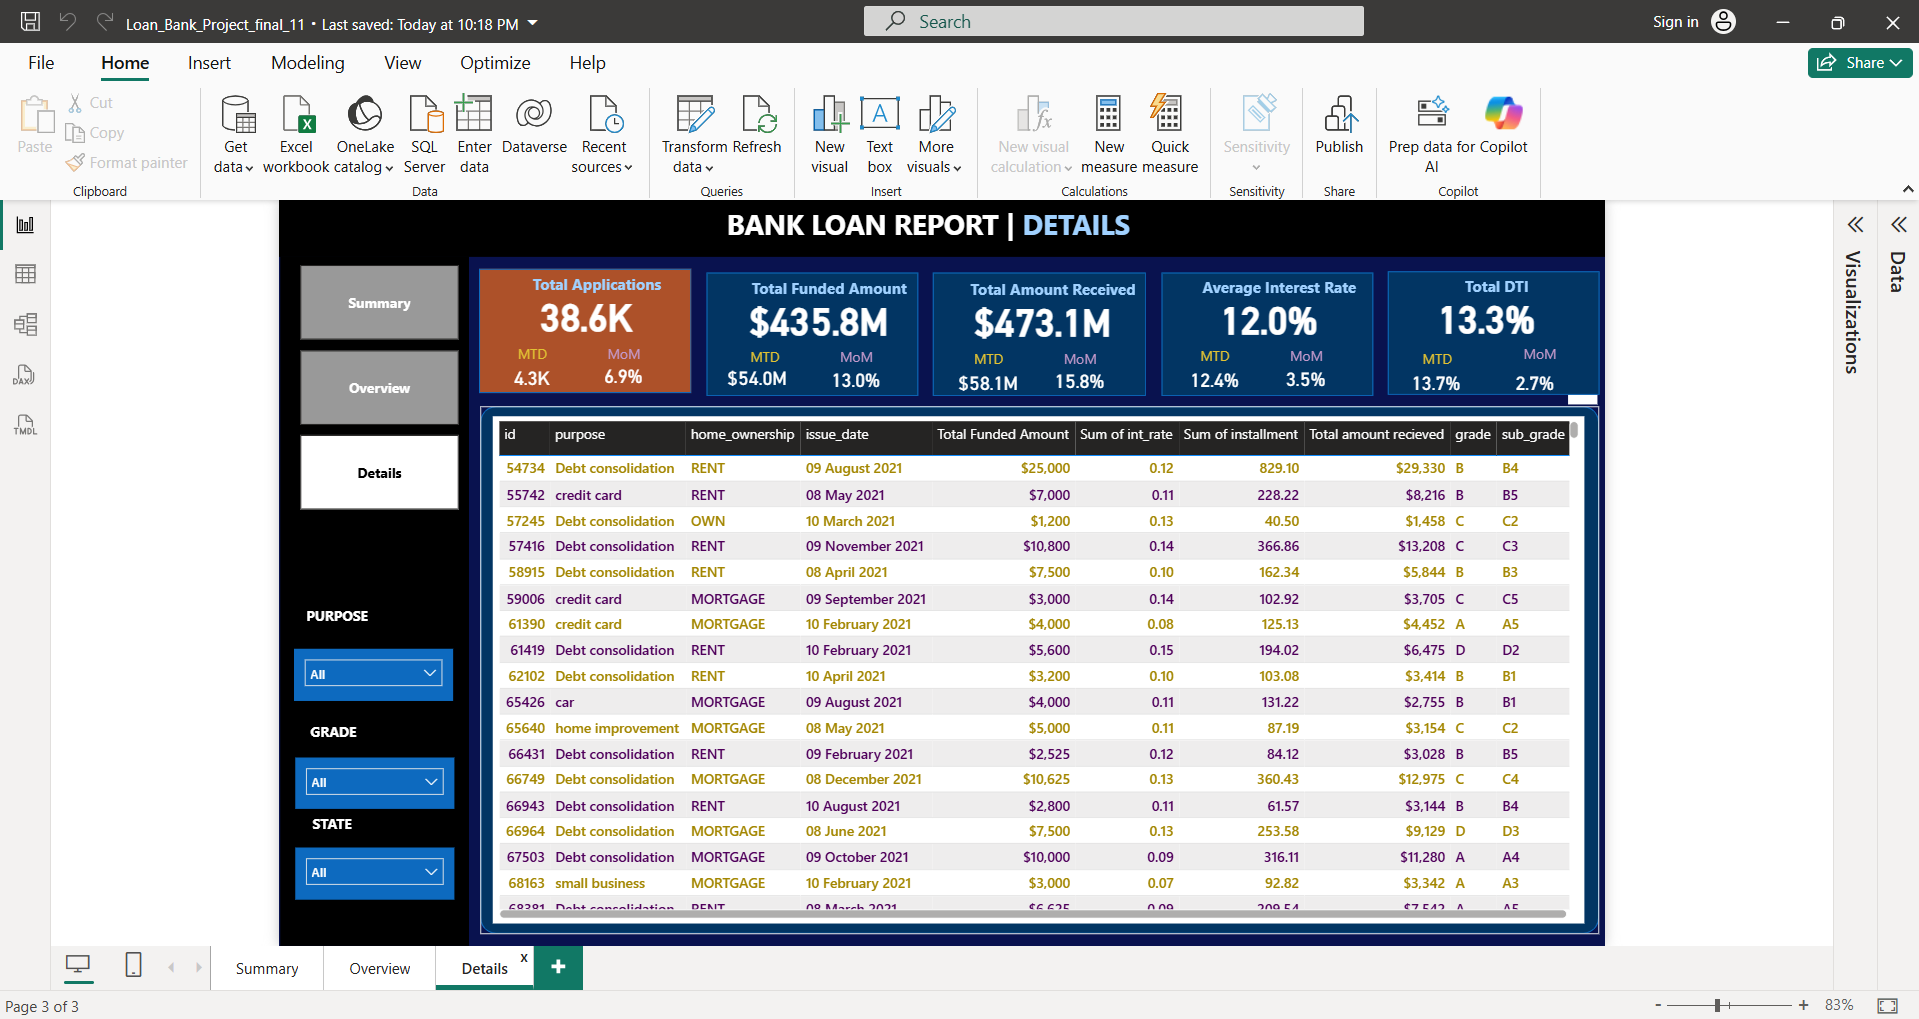

Layout of this report page (visuals, bound fields, positions):
{"tool":"powerbi","page":{"name":"Details","canvas":[1280,720],"ordinal":2},"visuals":[{"type":"shape","box":[1.2,54.3,182.2,666],"z":0},{"type":"shape","box":[194.2,199.1,1079.8,509.1],"z":1000},{"type":"shape","box":[0,0,1280.3,54.9],"z":2000},{"type":"shape","box":[631.5,70,205.8,119.4],"z":3000},{"type":"shape","box":[193.5,65.9,205,120],"z":4000},{"type":"textbox","box":[216.6,65.9,179.3,37.9],"z":4000,"group":"g1"},{"type":"textbox","box":[1085.2,67.2,179.3,37.9],"z":4000,"group":"g2"},{"type":"textbox","box":[875.3,68.6,179.3,37.9],"z":4000,"group":"g3"},{"type":"textbox","box":[441.7,70,179.3,37.9],"z":4000,"group":"g4"},{"type":"textbox","box":[657.1,71.4,179.3,37.9],"z":4000,"group":"g5"},{"type":"group","id":"g1","title":"Group 2","box":[196.2,65.9,200,130],"z":4001,"group":"g7"},{"type":"group","id":"g2","title":"Group 2","box":[1064.8,67.2,200,77.6],"z":4001,"group":"g10"},{"type":"group","id":"g3","title":"Group 2","box":[854.9,68.6,200,130],"z":4001,"group":"g9"},{"type":"group","id":"g4","title":"Group 2","box":[413.8,70,207.5,128.7],"z":4001,"group":"g8"},{"type":"group","id":"g5","title":"Group 2","box":[636.7,71.4,200,130],"z":4001,"group":"g6"},{"type":"textbox","box":[426.8,0,455.6,54.9],"z":5000},{"type":"card","fields":{"Values":["public bank.MTD Total"]},"box":[196.2,147.9,95.1,48],"z":5000,"group":"g1"},{"type":"card","fields":{"Values":["public bank.MTD Total Funded Amount"]},"box":[413.8,149.8,95.5,47],"z":5000,"group":"g4"},{"type":"card","fields":{"Values":["public bank.MTD Interest Rate"]},"box":[854.9,150.6,95.1,48],"z":5000,"group":"g3"},{"type":"card","fields":{"Values":["public bank.MTD Total amount receieved"]},"box":[636.7,153.4,95.1,48],"z":5000,"group":"g5"},{"type":"shape","box":[412.8,70,204.5,119.4],"z":6000},{"type":"card","fields":{"Values":["public bank.Total Loan Applications"]},"box":[196.2,78.5,200,65],"z":6000,"group":"g1"},{"type":"card","fields":{"Values":["public bank.Average DTI"]},"box":[1064.8,79.8,200,65],"z":6000,"group":"g2"},{"type":"card","fields":{"Values":["public bank.Avg Interest rate"]},"box":[854.9,81.2,200,65],"z":6000,"group":"g3"},{"type":"card","fields":{"Values":["public bank.Total Funded Amount"]},"box":[421.3,82.6,200,65],"z":6000,"group":"g4"},{"type":"card","fields":{"Values":["public bank.Total amount recieved"]},"box":[636.7,84,200,65],"z":6000,"group":"g5"},{"type":"shape","box":[1070.3,68.6,204.5,119.4],"z":7000},{"type":"textbox","box":[215.2,134.1,57,37.9],"z":7000,"group":"g1"},{"type":"textbox","box":[873.9,136.8,57,37.9],"z":7000,"group":"g3"},{"type":"textbox","box":[440.3,138.2,57,37.9],"z":7000,"group":"g4"},{"type":"textbox","box":[655.7,139.6,57,37.9],"z":7000,"group":"g5"},{"type":"card","fields":{"Values":["public bank.MTD Average DTI"]},"box":[1069,153.9,95.5,47],"z":8000},{"type":"textbox","box":[300.8,134.1,62.5,37.9],"z":9000,"group":"g1"},{"type":"textbox","box":[959.5,136.8,62.5,37.9],"z":9000,"group":"g3"},{"type":"textbox","box":[525.9,138.2,62.5,37.9],"z":9000,"group":"g4"},{"type":"textbox","box":[741.3,139.6,62.5,37.9],"z":9000,"group":"g5"},{"type":"card","fields":{"Values":["public bank.MoM DTI"]},"box":[1164.5,153.9,95.5,47],"z":9000},{"type":"textbox","box":[1187.3,134,59.9,37.1],"z":10000},{"type":"card","fields":{"Values":["public bank.MoM"]},"box":[284.5,146.7,95.1,48],"z":10000,"group":"g1"},{"type":"card","fields":{"Values":["public bank.MoM InterestRate"]},"box":[943.2,149.4,95.1,48],"z":10000,"group":"g3"},{"type":"card","fields":{"Values":["public bank.MoM Funded"]},"box":[509.6,150.8,95.1,48],"z":10000,"group":"g4"},{"type":"card","fields":{"Values":["public bank.MoM Amountreceieved"]},"box":[725,152.2,95.1,48],"z":10000,"group":"g5"},{"type":"group","id":"g6","title":"Group 1","box":[636.7,71.4,200.3,130.4],"z":11000},{"type":"shape","box":[851.6,70,204.5,119.4],"z":12000},{"type":"textbox","box":[1089,138.3,57,37.1],"z":13000},{"type":"group","id":"g7","title":"Group 1","box":[196.2,65.9,200.3,130.4],"z":14000},{"type":"group","id":"g8","title":"Group 1","box":[413.8,70,207.5,128.7],"z":15000},{"type":"group","id":"g9","title":"Group 1","box":[854.9,68.6,200.3,130.4],"z":16000},{"type":"group","id":"g10","title":"Group 1","box":[1064.8,67.2,200,77.6],"z":17000},{"type":"slicer","fields":{"Values":["public bank.address_state"]},"box":[15.7,624.9,153.2,50.7],"z":18000},{"type":"textbox","box":[15.7,587.5,71.2,37.4],"z":19000},{"type":"textbox","box":[16.9,499.5,71.2,38.6],"z":20000},{"type":"slicer","fields":{"Values":["public bank.purpose"]},"box":[14.5,433.1,153.2,50.7],"z":21000},{"type":"slicer","fields":{"Values":["public bank.grade"]},"box":[15.7,538.1,153.2,49.5],"z":22000},{"type":"textbox","box":[20.5,387.3,71.2,38.6],"z":23000},{"type":"tableEx","fields":{"Values":["public bank.id","public bank.purpose","public bank.home_ownership","public bank.issue_date","public bank.Total Funded Amount","Sum(public bank.int_rate)","Sum(public bank.installment)","public bank.Total amount recieved","public bank.grade","public bank.sub_grade"]},"box":[206.3,208.7,1053.2,489.8],"z":24000},{"type":"pageNavigator","box":[20.5,62.7,153.2,237.7],"z":25000}]}

Visuals, with their boxes on the page's 1280x720 design canvas (x1, y1, x2, y2). These are canvas units, not pixel positions in the 1919x1019 screenshot, which may show the page scaled, cropped or inside an application window:
shape: <bbox>1, 54, 183, 720</bbox>
shape: <bbox>194, 199, 1274, 708</bbox>
shape: <bbox>0, 0, 1280, 55</bbox>
shape: <bbox>632, 70, 837, 189</bbox>
shape: <bbox>194, 66, 398, 186</bbox>
textbox: <bbox>217, 66, 396, 104</bbox>
textbox: <bbox>1085, 67, 1264, 105</bbox>
textbox: <bbox>875, 69, 1055, 106</bbox>
textbox: <bbox>442, 70, 621, 108</bbox>
textbox: <bbox>657, 71, 836, 109</bbox>
"Group 2" group: <bbox>196, 66, 396, 196</bbox>
"Group 2" group: <bbox>1065, 67, 1265, 145</bbox>
"Group 2" group: <bbox>855, 69, 1055, 199</bbox>
"Group 2" group: <bbox>414, 70, 621, 199</bbox>
"Group 2" group: <bbox>637, 71, 837, 201</bbox>
textbox: <bbox>427, 0, 882, 55</bbox>
card - public bank.MTD Total: <bbox>196, 148, 291, 196</bbox>
card - public bank.MTD Total Funded Amount: <bbox>414, 150, 509, 197</bbox>
card - public bank.MTD Interest Rate: <bbox>855, 151, 950, 199</bbox>
card - public bank.MTD Total amount receieved: <bbox>637, 153, 732, 201</bbox>
shape: <bbox>413, 70, 617, 189</bbox>
card - public bank.Total Loan Applications: <bbox>196, 78, 396, 144</bbox>
card - public bank.Average DTI: <bbox>1065, 80, 1265, 145</bbox>
card - public bank.Avg Interest rate: <bbox>855, 81, 1055, 146</bbox>
card - public bank.Total Funded Amount: <bbox>421, 83, 621, 148</bbox>
card - public bank.Total amount recieved: <bbox>637, 84, 837, 149</bbox>
shape: <bbox>1070, 69, 1275, 188</bbox>
textbox: <bbox>215, 134, 272, 172</bbox>
textbox: <bbox>874, 137, 931, 175</bbox>
textbox: <bbox>440, 138, 497, 176</bbox>
textbox: <bbox>656, 140, 713, 178</bbox>
card - public bank.MTD Average DTI: <bbox>1069, 154, 1164, 201</bbox>
textbox: <bbox>301, 134, 363, 172</bbox>
textbox: <bbox>960, 137, 1022, 175</bbox>
textbox: <bbox>526, 138, 588, 176</bbox>
textbox: <bbox>741, 140, 804, 178</bbox>
card - public bank.MoM DTI: <bbox>1164, 154, 1260, 201</bbox>
textbox: <bbox>1187, 134, 1247, 171</bbox>
card - public bank.MoM: <bbox>284, 147, 380, 195</bbox>
card - public bank.MoM InterestRate: <bbox>943, 149, 1038, 197</bbox>
card - public bank.MoM Funded: <bbox>510, 151, 605, 199</bbox>
card - public bank.MoM Amountreceieved: <bbox>725, 152, 820, 200</bbox>
"Group 1" group: <bbox>637, 71, 837, 202</bbox>
shape: <bbox>852, 70, 1056, 189</bbox>
textbox: <bbox>1089, 138, 1146, 175</bbox>
"Group 1" group: <bbox>196, 66, 396, 196</bbox>
"Group 1" group: <bbox>414, 70, 621, 199</bbox>
"Group 1" group: <bbox>855, 69, 1055, 199</bbox>
"Group 1" group: <bbox>1065, 67, 1265, 145</bbox>
slicer - public bank.address_state: <bbox>16, 625, 169, 676</bbox>
textbox: <bbox>16, 588, 87, 625</bbox>
textbox: <bbox>17, 500, 88, 538</bbox>
slicer - public bank.purpose: <bbox>14, 433, 168, 484</bbox>
slicer - public bank.grade: <bbox>16, 538, 169, 588</bbox>
textbox: <bbox>20, 387, 92, 426</bbox>
tableEx - public bank.id x public bank.purpose: <bbox>206, 209, 1260, 698</bbox>
pageNavigator: <bbox>20, 63, 174, 300</bbox>
